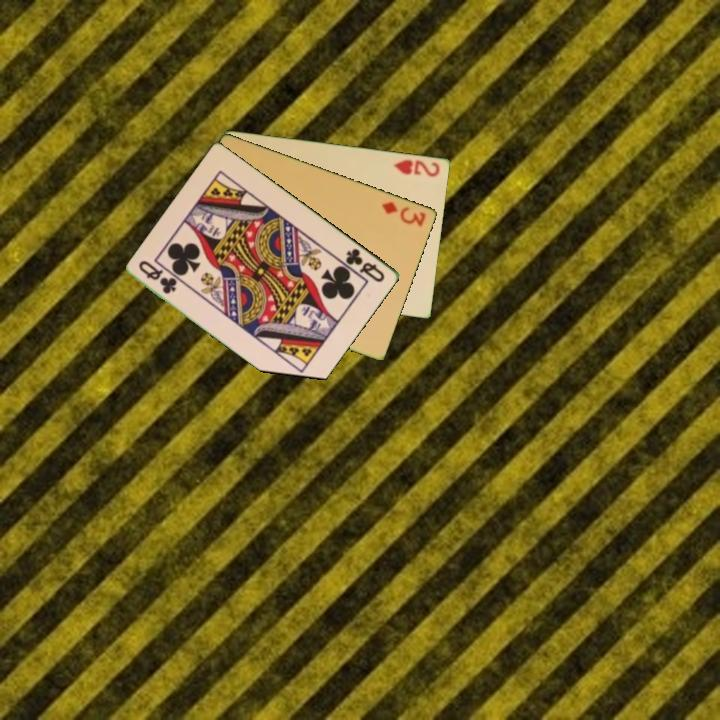2h: (390, 156, 443, 179)
3d: (378, 197, 429, 229)
Qc: (342, 244, 388, 285), (135, 256, 180, 297)
